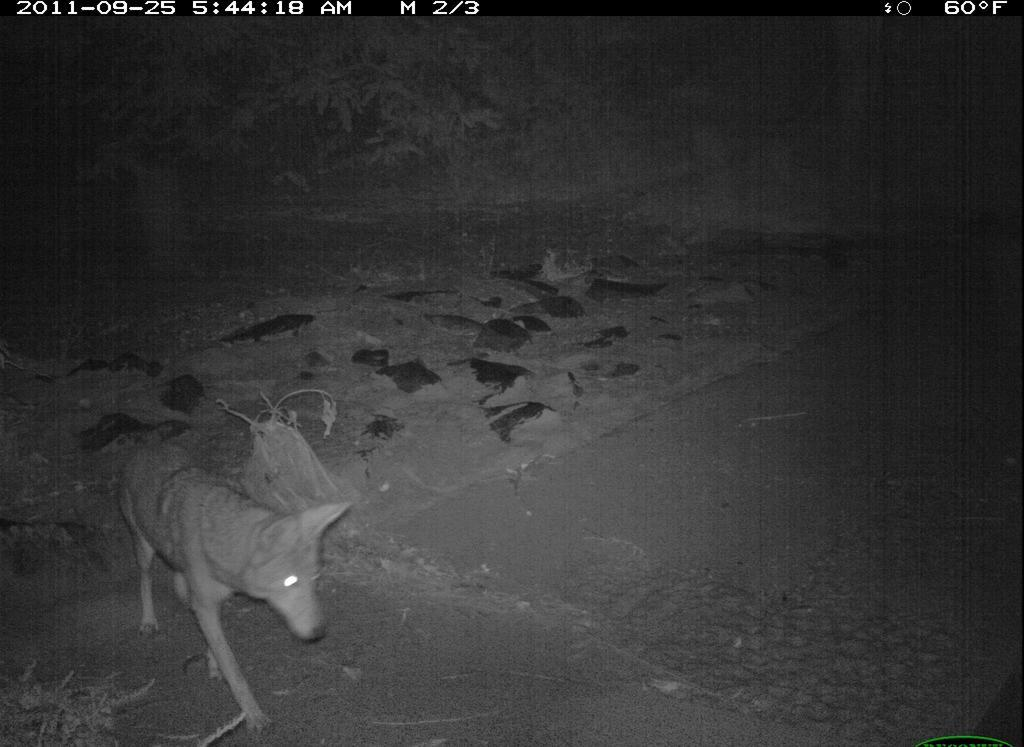coyote: (104, 429, 356, 747)
